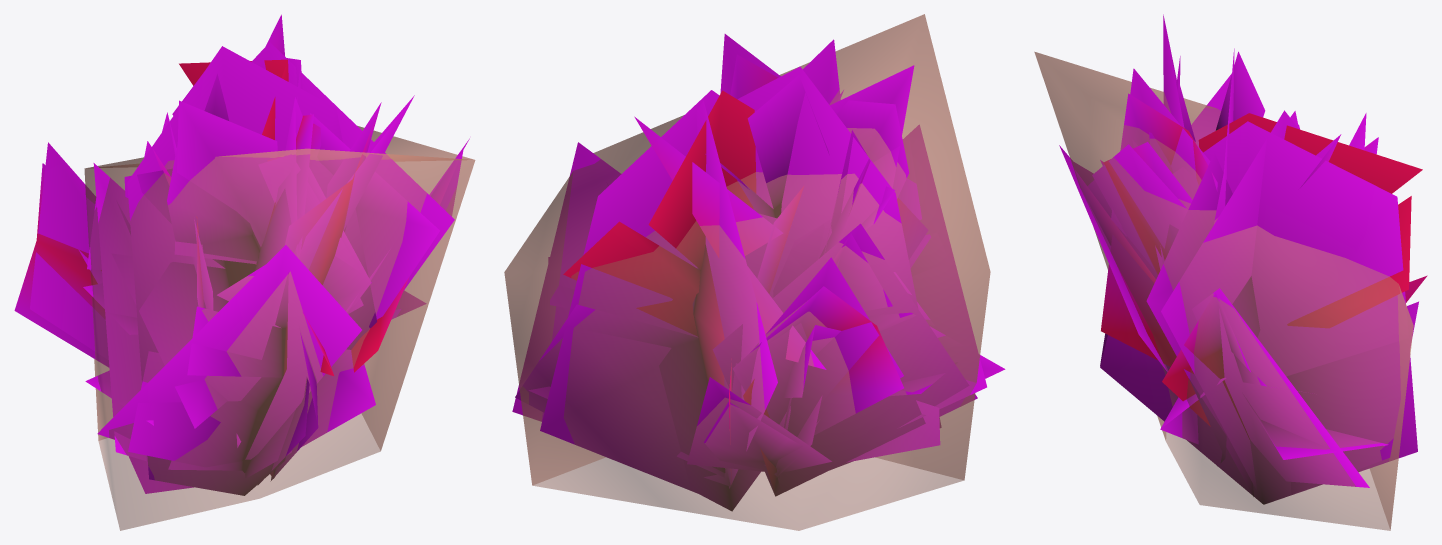
Rendered from tree_aspen_bush_b.dae.
3 views of the same model, side by side, from view 1: azimuth 30°, elevation 25°; view 2: azimuth 150°, elevation 25°; view 3: azimuth 270°, elevation 25° (orthographic). The views are drawn at different scales.
Parts seen in each view (by area): view 1: Colmesh_bush02-1, Birch_Bush_02_a250, Birch_Bush_02_a500; view 2: Colmesh_bush02-1, Birch_Bush_02_a250, Birch_Bush_02_a500; view 3: Colmesh_bush02-1, Birch_Bush_02_a250, Birch_Bush_02_a500.
Boxes of the visible parts, bbox=[...] form: Colmesh_bush02-1: bbox=[84, 125, 475, 530]; Birch_Bush_02_a250: bbox=[30, 42, 469, 495]; Birch_Bush_02_a500: bbox=[14, 14, 463, 493]; Colmesh_bush02-1: bbox=[504, 14, 990, 530]; Birch_Bush_02_a250: bbox=[512, 34, 986, 496]; Birch_Bush_02_a500: bbox=[515, 54, 1005, 511]; Colmesh_bush02-1: bbox=[1034, 51, 1413, 530]; Birch_Bush_02_a250: bbox=[1059, 14, 1417, 504]; Birch_Bush_02_a500: bbox=[1066, 51, 1427, 496].
Size of the model in its own units: 2.24 by 2 by 2.43.
